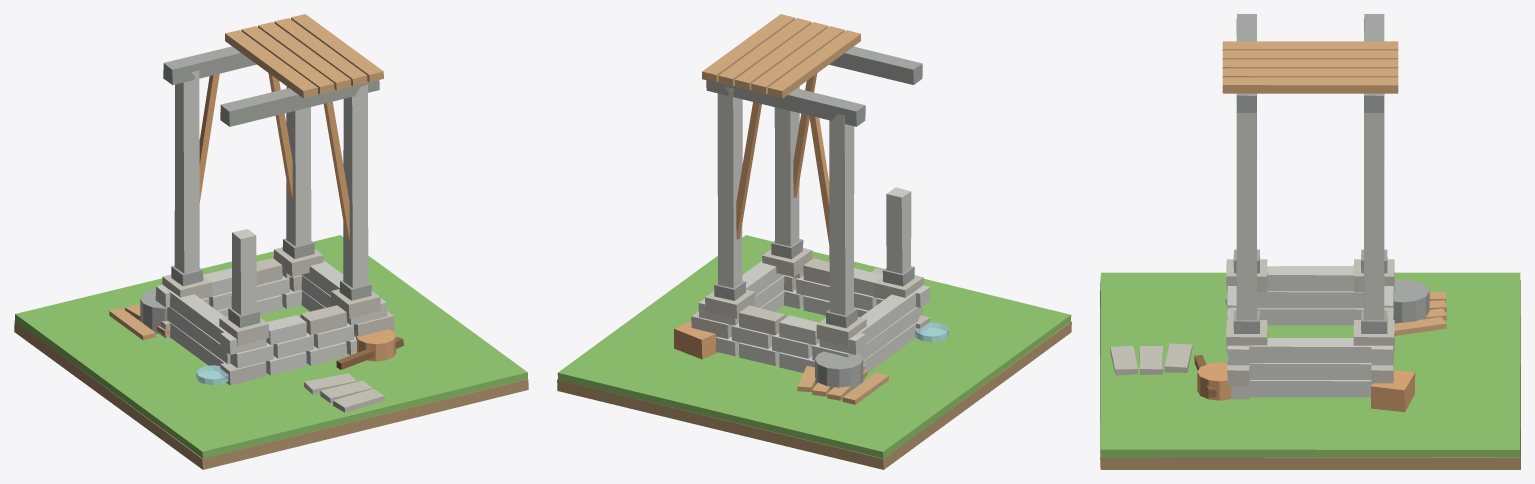
Rendered from tower_l05_damaged_LOD2.glb.
3 renders of one model, left to right at view 1: azimuth 30°, elevation 25°; view 2: azimuth 150°, elevation 25°; view 3: azimuth 270°, elevation 25°, orthographic. The views are drawn at different scales.
Parts seen in each view (by area): view 1: tower_l05_grass_tile_tower_l05_damaged_LOD2_tmp, tower_l05_earth_tile_tower_l05_damaged_LOD2_tmp, post_-0.61_0.54_tower_l05_damaged_LOD2_tmp, post_0.61_-0.54_tower_l05_damaged_LOD2_tmp, post_0.61_0.54_tower_l05_damaged_LOD2_tmp, deck_bearer_-0.54_tower_l05_damaged_LOD2_tmp, post_-0.61_-0.54_tower_l05_damaged_LOD2_tmp, deck_bearer_0.54_tower_l05_damaged_LOD2_tmp, deck_board_4_tower_l05_damaged_LOD2_tmp, deck_board_5_tower_l05_damaged_LOD2_tmp, deck_board_7_tower_l05_damaged_LOD2_tmp, deck_board_8_tower_l05_damaged_LOD2_tmp (+32 smaller); view 2: tower_l05_grass_tile_tower_l05_damaged_LOD2_tmp, tower_l05_earth_tile_tower_l05_damaged_LOD2_tmp, post_-0.61_0.54_tower_l05_damaged_LOD2_tmp, post_0.61_0.54_tower_l05_damaged_LOD2_tmp, post_0.61_-0.54_tower_l05_damaged_LOD2_tmp, deck_bearer_0.54_tower_l05_damaged_LOD2_tmp, post_-0.61_-0.54_tower_l05_damaged_LOD2_tmp, deck_bearer_-0.54_tower_l05_damaged_LOD2_tmp, deck_board_4_tower_l05_damaged_LOD2_tmp, fallen_relay_tower_l05_damaged_LOD2_tmp, deck_board_7_tower_l05_damaged_LOD2_tmp, deck_board_8_tower_l05_damaged_LOD2_tmp (+26 smaller); view 3: tower_l05_grass_tile_tower_l05_damaged_LOD2_tmp, tower_l05_earth_tile_tower_l05_damaged_LOD2_tmp, post_0.61_0.54_tower_l05_damaged_LOD2_tmp, post_0.61_-0.54_tower_l05_damaged_LOD2_tmp, deck_board_8_tower_l05_damaged_LOD2_tmp, stone_return_2_0.72_tower_l05_damaged_LOD2_tmp, stone_return_2_-0.72_tower_l05_damaged_LOD2_tmp, stone_return_0_0.72_tower_l05_damaged_LOD2_tmp, stone_return_1_0.72_tower_l05_damaged_LOD2_tmp, stone_return_1_-0.72_tower_l05_damaged_LOD2_tmp, deck_board_4_tower_l05_damaged_LOD2_tmp, deck_board_5_tower_l05_damaged_LOD2_tmp (+22 smaller).
Boxes of the visible parts, <box> form: tower_l05_grass_tile_tower_l05_damaged_LOD2_tmp: <box>15,235,527,458</box>; tower_l05_earth_tile_tower_l05_damaged_LOD2_tmp: <box>14,321,528,469</box>; post_-0.61_0.54_tower_l05_damaged_LOD2_tmp: <box>174,70,199,273</box>; post_0.61_-0.54_tower_l05_damaged_LOD2_tmp: <box>343,84,368,287</box>; post_0.61_0.54_tower_l05_damaged_LOD2_tmp: <box>286,86,311,246</box>; deck_bearer_-0.54_tower_l05_damaged_LOD2_tmp: <box>220,80,379,126</box>; post_-0.61_-0.54_tower_l05_damaged_LOD2_tmp: <box>231,229,256,315</box>; deck_bearer_0.54_tower_l05_damaged_LOD2_tmp: <box>163,46,256,84</box>; deck_board_4_tower_l05_damaged_LOD2_tmp: <box>225,30,317,98</box>; deck_board_5_tower_l05_damaged_LOD2_tmp: <box>241,26,334,94</box>; deck_board_7_tower_l05_damaged_LOD2_tmp: <box>274,18,367,86</box>; deck_board_8_tower_l05_damaged_LOD2_tmp: <box>291,14,383,82</box>; tower_l05_grass_tile_tower_l05_damaged_LOD2_tmp: <box>557,235,1071,458</box>; tower_l05_earth_tile_tower_l05_damaged_LOD2_tmp: <box>557,321,1071,469</box>; post_-0.61_0.54_tower_l05_damaged_LOD2_tmp: <box>829,114,854,315</box>; post_0.61_0.54_tower_l05_damaged_LOD2_tmp: <box>717,87,742,288</box>; post_0.61_-0.54_tower_l05_damaged_LOD2_tmp: <box>774,86,799,246</box>; deck_bearer_0.54_tower_l05_damaged_LOD2_tmp: <box>706,80,865,126</box>; post_-0.61_-0.54_tower_l05_damaged_LOD2_tmp: <box>886,187,911,273</box>; deck_bearer_-0.54_tower_l05_damaged_LOD2_tmp: <box>829,46,922,84</box>; deck_board_4_tower_l05_damaged_LOD2_tmp: <box>768,30,860,98</box>; fallen_relay_tower_l05_damaged_LOD2_tmp: <box>815,351,863,390</box>; deck_board_7_tower_l05_damaged_LOD2_tmp: <box>718,18,811,86</box>; deck_board_8_tower_l05_damaged_LOD2_tmp: <box>702,14,795,82</box>; tower_l05_grass_tile_tower_l05_damaged_LOD2_tmp: <box>1100,272,1520,457</box>; tower_l05_earth_tile_tower_l05_damaged_LOD2_tmp: <box>1100,280,1520,469</box>; post_0.61_0.54_tower_l05_damaged_LOD2_tmp: <box>1364,109,1384,320</box>; post_0.61_-0.54_tower_l05_damaged_LOD2_tmp: <box>1236,108,1256,320</box>; deck_board_8_tower_l05_damaged_LOD2_tmp: <box>1222,77,1398,93</box>; stone_return_2_0.72_tower_l05_damaged_LOD2_tmp: <box>1243,338,1372,362</box>; stone_return_2_-0.72_tower_l05_damaged_LOD2_tmp: <box>1267,266,1353,291</box>; stone_return_0_0.72_tower_l05_damaged_LOD2_tmp: <box>1249,380,1371,397</box>; stone_return_1_0.72_tower_l05_damaged_LOD2_tmp: <box>1249,363,1371,379</box>; stone_return_1_-0.72_tower_l05_damaged_LOD2_tmp: <box>1257,291,1363,308</box>; deck_board_4_tower_l05_damaged_LOD2_tmp: <box>1222,41,1398,50</box>; deck_board_5_tower_l05_damaged_LOD2_tmp: <box>1222,50,1398,59</box>.
Bounding box in the file's own units: 3.57 × 3.15 × 3.57.
